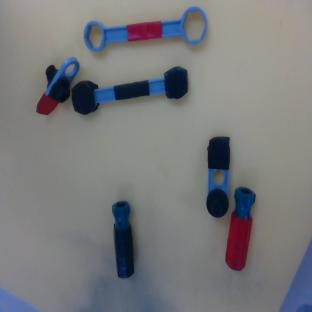part_1_bad: (206, 137, 230, 217)
part_1_good: (31, 49, 82, 121)
part_2_bad: (111, 200, 136, 278)
part_2_good: (224, 186, 257, 271)
part_3_bad: (69, 63, 191, 116)
part_3_good: (82, 6, 209, 52)
